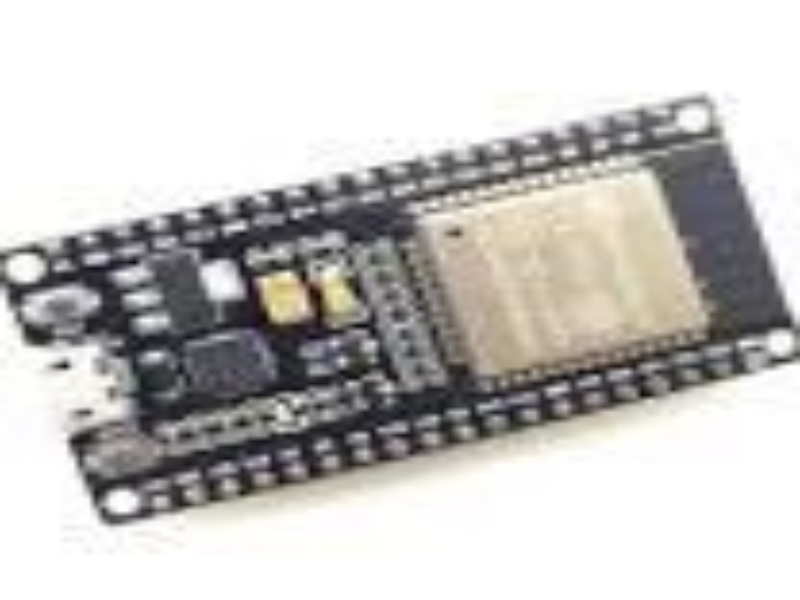esp32: (7, 94, 800, 474)
